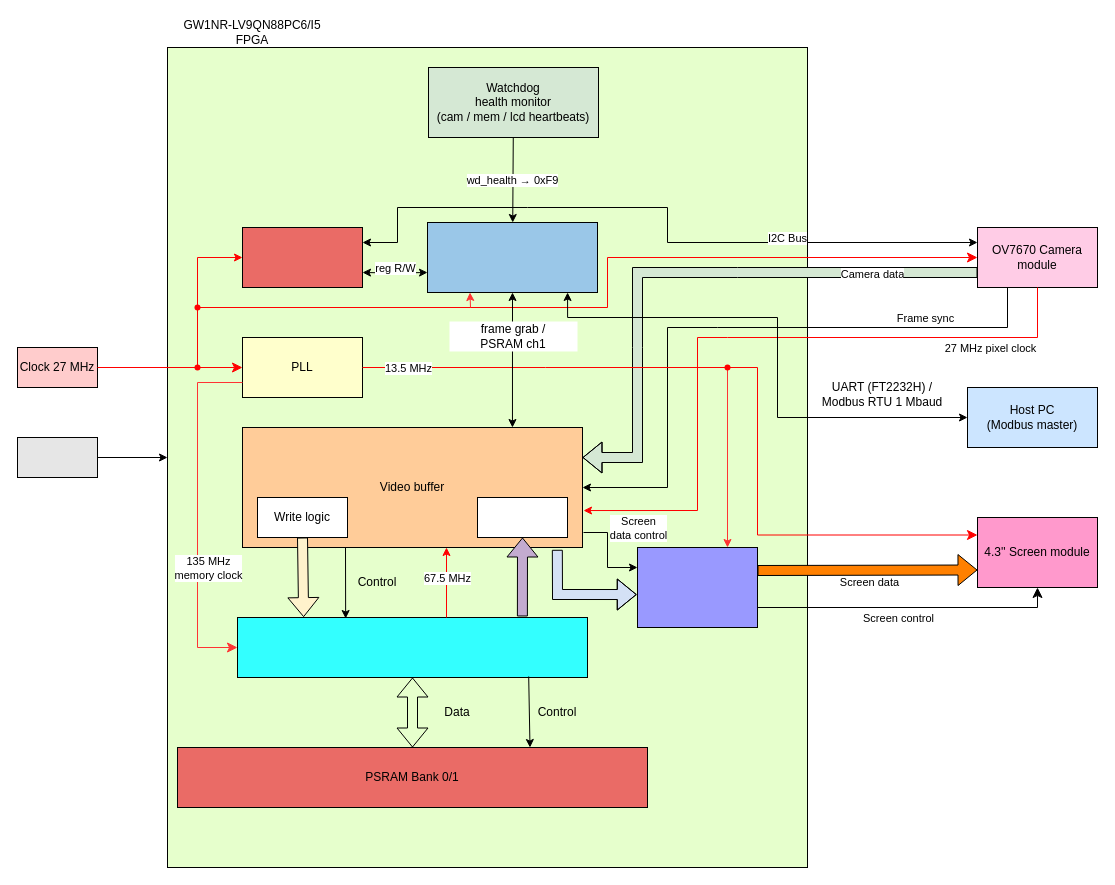
The diagram is 1115 pixels wide and 885 high, and some of its shapes have lost their labels. The box of each missing label's shape, as (x1, y1, x2, y2) in pixels:
I2C controller: (242, 226, 362, 288)
Memory controller: (236, 616, 588, 678)
Modbus server (UART + RTU slave + Wishbone bus: sccb/sysregs/grab/osd): (426, 222, 598, 292)
Read logic: (476, 496, 568, 538)
Reset button: (16, 436, 98, 478)
Screen controller: (636, 546, 758, 628)
